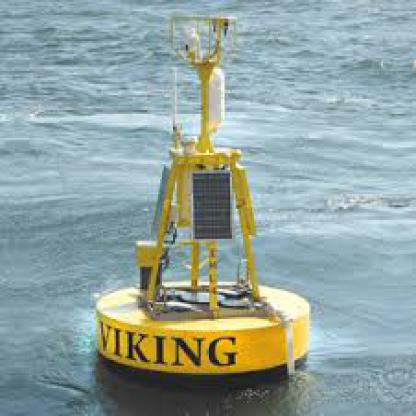buoy: (86, 11, 320, 386)
